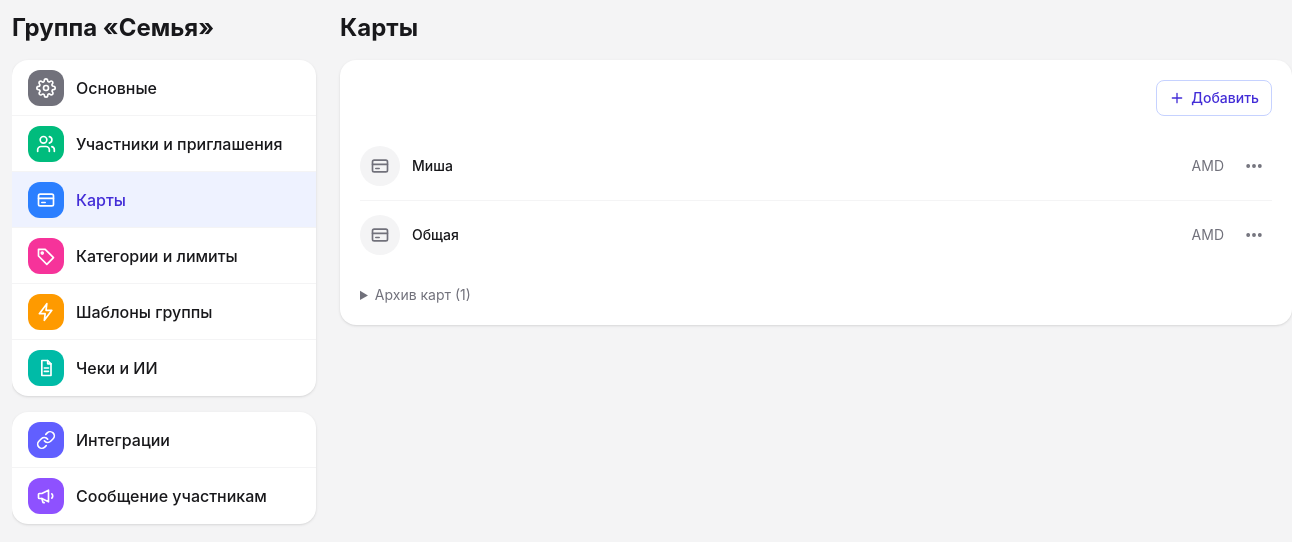
Test case: меню «⋯» › клик вне меню закрывает его; стрелки переходят по пунктам
Expected: the heading "Карты" is shown, [340,13,418,42]
Step 1. Click the button named "Действия: Общая" → (1254, 235), box [1236,217,1272,253]
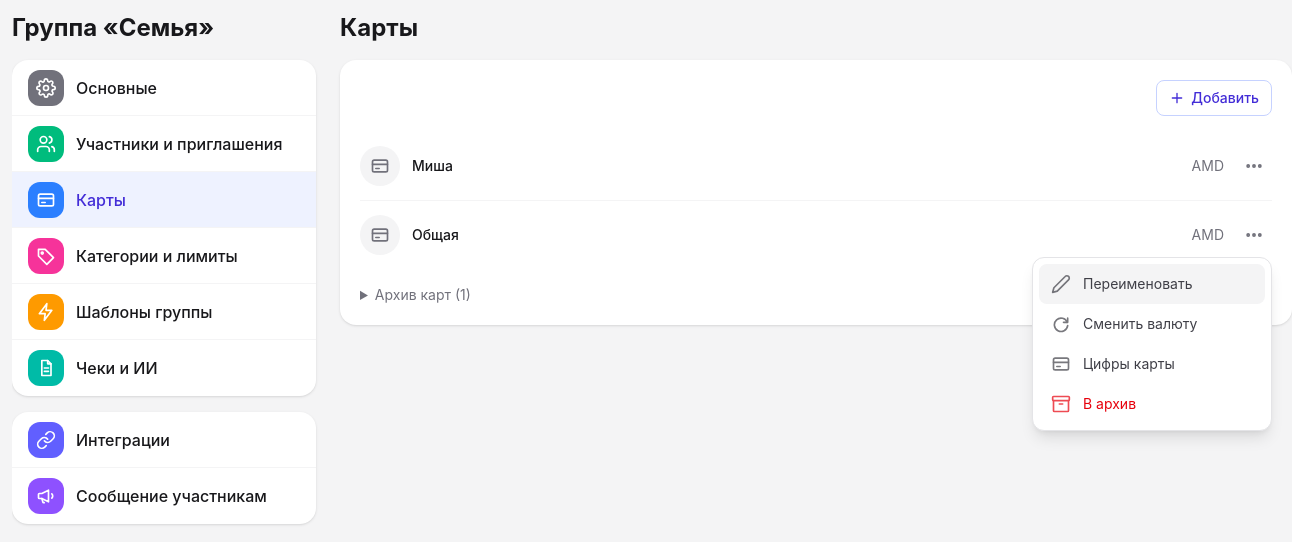
Step 2. Press Arrowdown
Step 3. Press Arrowup
Step 4. Click the heading "Карты" → (379, 28), box [340,13,418,42]
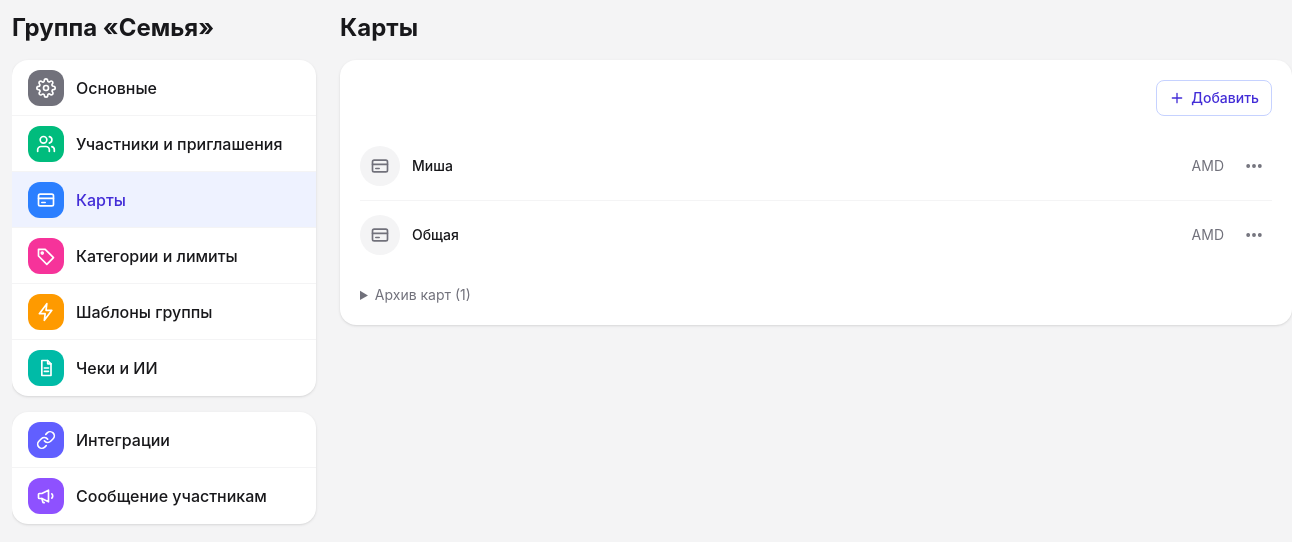
Now the menu is gone
